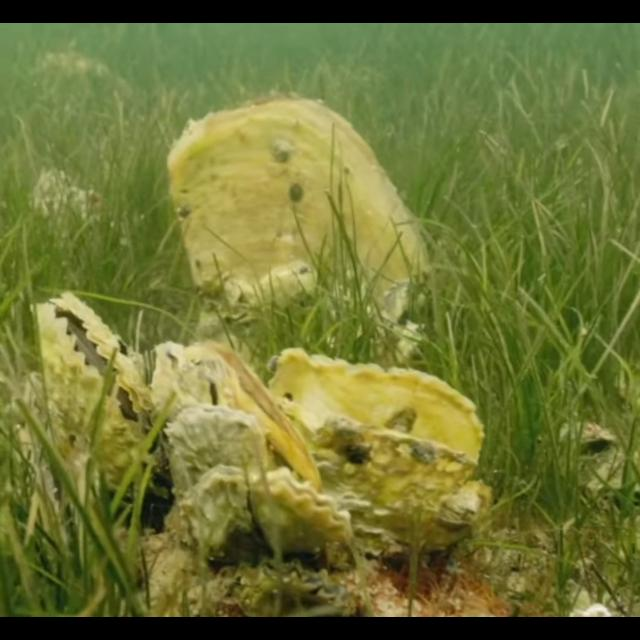Oyster-Closed: (164, 94, 432, 326), (150, 340, 322, 494), (163, 403, 269, 501)
Oyster-Open: (268, 348, 492, 558), (34, 294, 166, 506), (163, 464, 354, 574)
